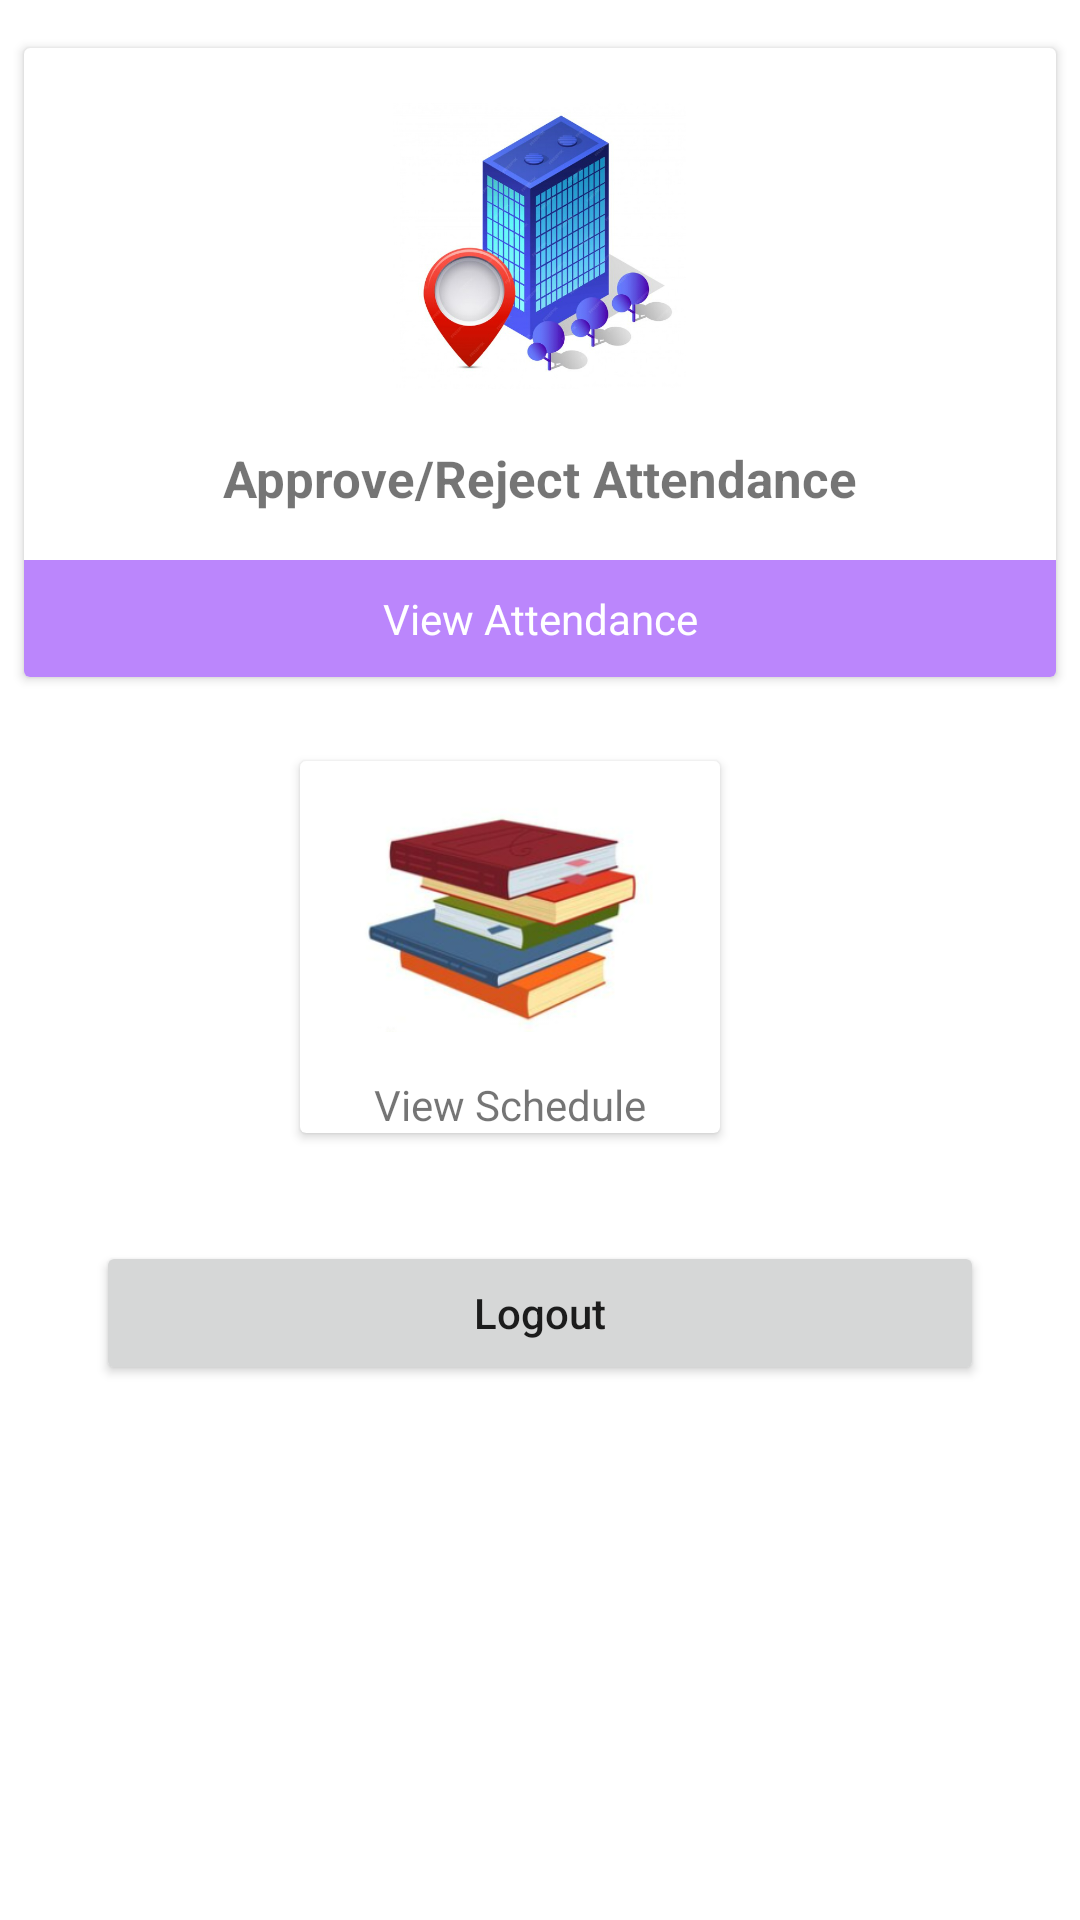

Named icons in this screenshot (1080px x 1920px) and their bounding boxes, (x1, y1, x2, y2):
course: (368, 819, 637, 1021)
